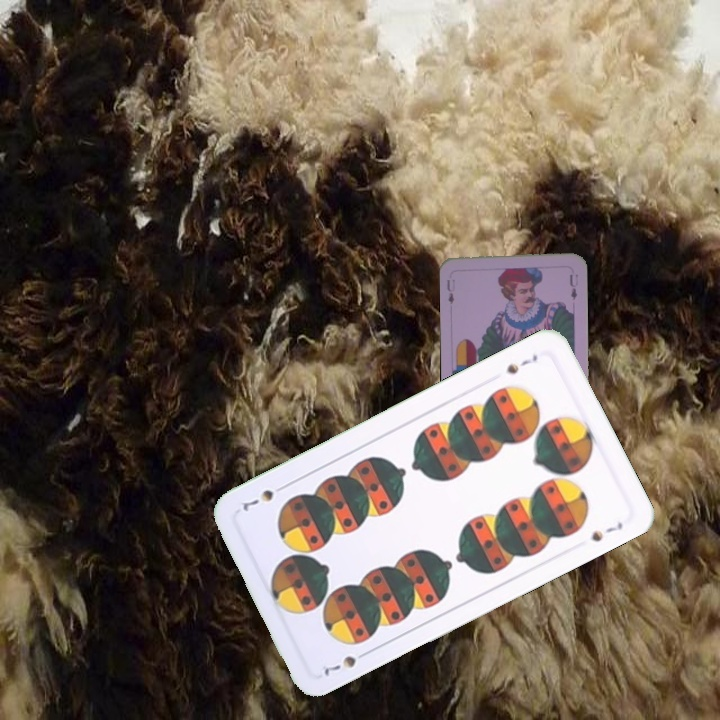EU: (443, 275, 457, 307)
S7: (317, 646, 373, 680), (502, 350, 541, 377)
